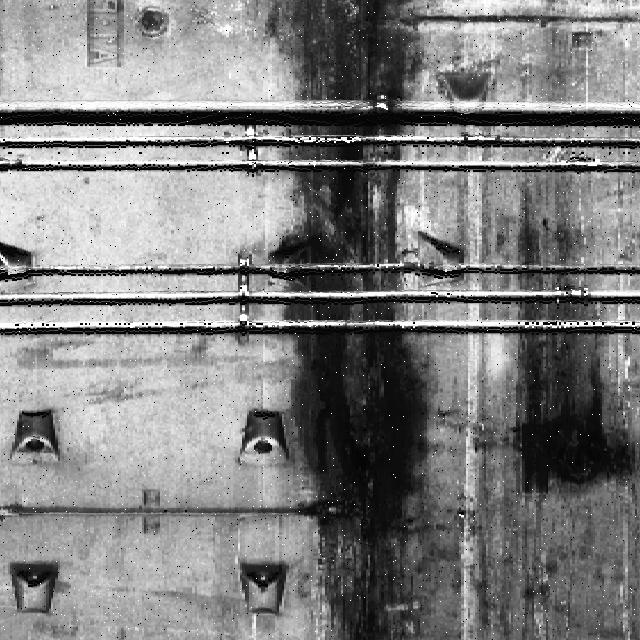leakage: (269, 0, 451, 636), (512, 190, 638, 500)
